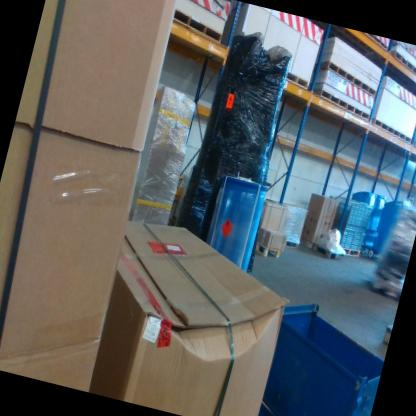pallet: (341, 246, 361, 259), (284, 238, 301, 251)
